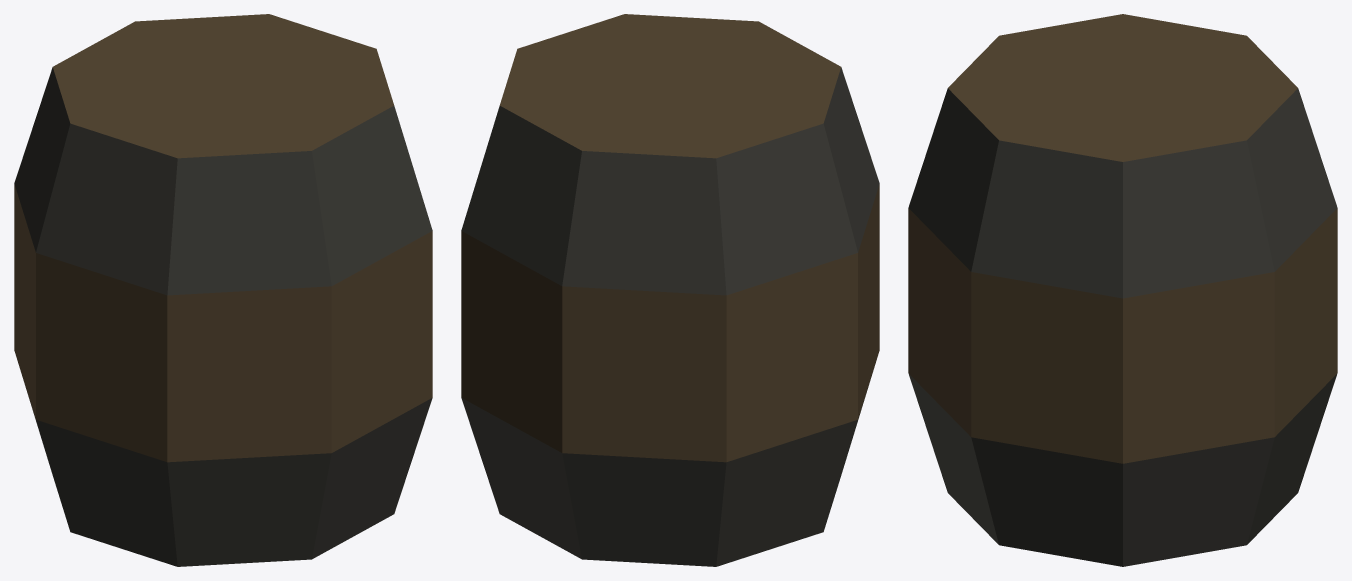
File: barrel2.fbx
3 renders of one model, left to right at view 1: azimuth 30°, elevation 25°; view 2: azimuth 150°, elevation 25°; view 3: azimuth 270°, elevation 25°, orthographic.
Visible parts, largest first — view 1: Cylinder; view 2: Cylinder; view 3: Cylinder.
Boxes of the visible parts, box(x1,y1,x2,y2) form: Cylinder: box(14, 14, 432, 566); Cylinder: box(461, 14, 879, 566); Cylinder: box(908, 14, 1337, 566).
Bounding box in the file's own units: 224 × 233 × 224.
